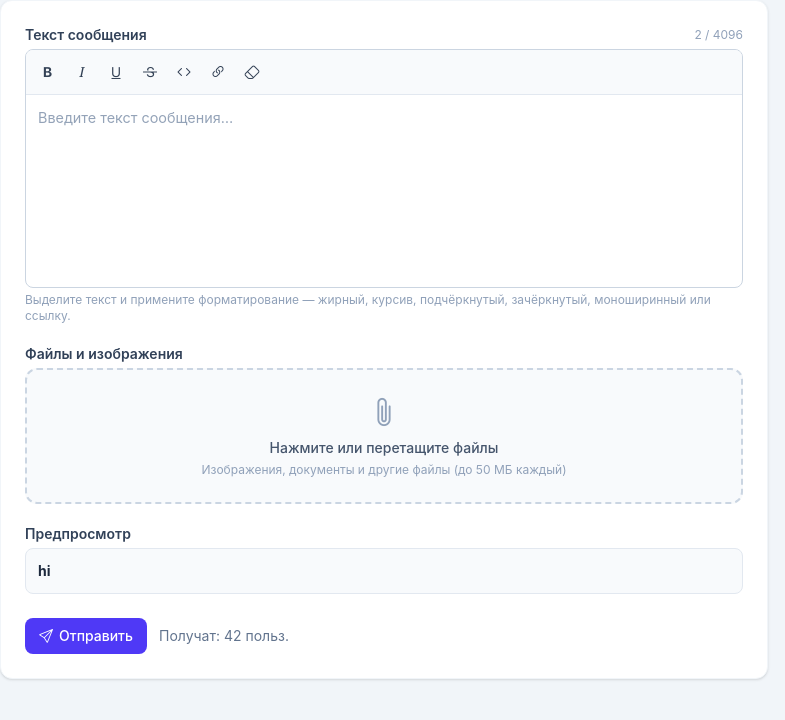
Test: BroadcastView › shows an error message when the request fails
Step 1. Click the button with test id "send" → (86, 636), box x1=25 y1=618 x2=147 y2=654
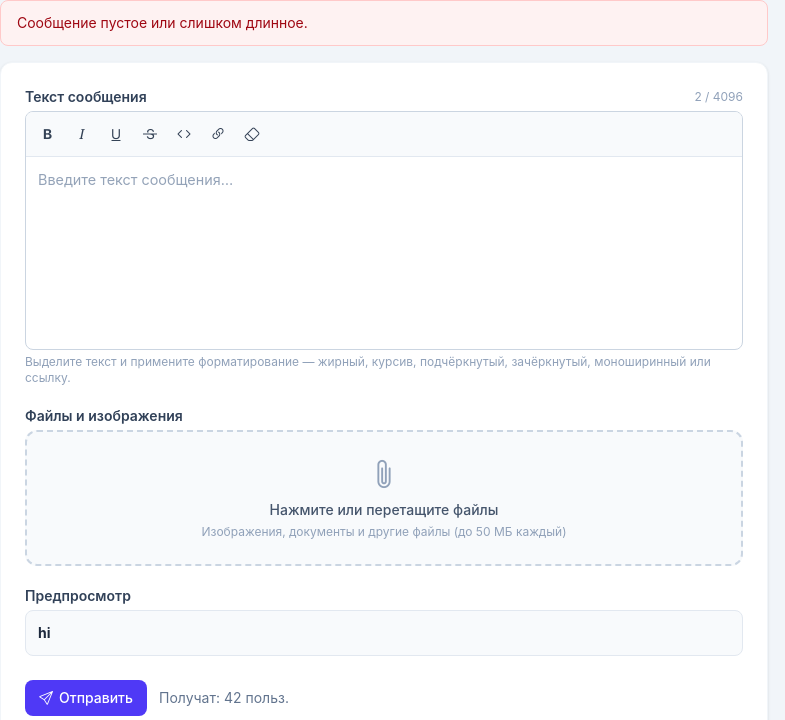
Result: the text "Сообщение пустое или слишком длинное." is shown at x1=0 y1=0 x2=768 y2=46
